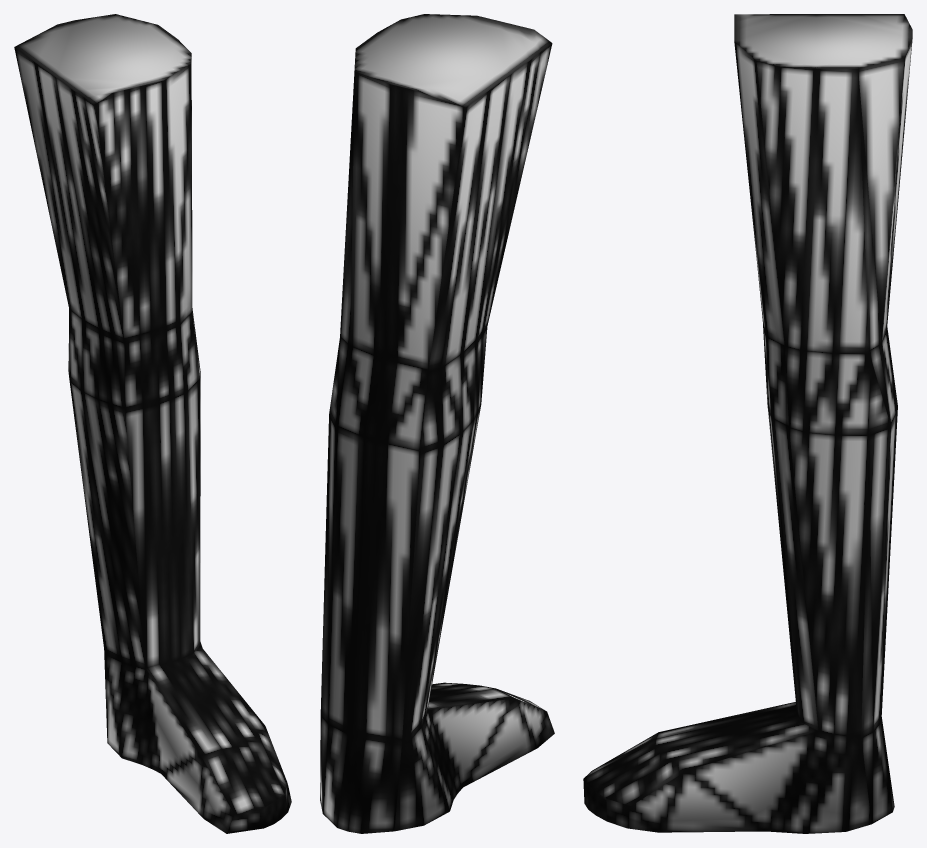
The model's file is playerRleg.obj.
3 views of the same model, side by side, from view 1: azimuth 30°, elevation 25°; view 2: azimuth 150°, elevation 25°; view 3: azimuth 270°, elevation 25° (orthographic). The views are drawn at different scales.
Parts seen in each view (by area): view 1: 立方体.003; view 2: 立方体.003; view 3: 立方体.003.
Boxes of the visible parts, box(x1,y1,x2,y2) form: 立方体.003: box(14, 14, 291, 833); 立方体.003: box(320, 14, 554, 833); 立方体.003: box(583, 14, 912, 833).
Bounding box in the file's own units: 0.2357 × 0.9635 × 0.3848.
1 material, 1 textured.
